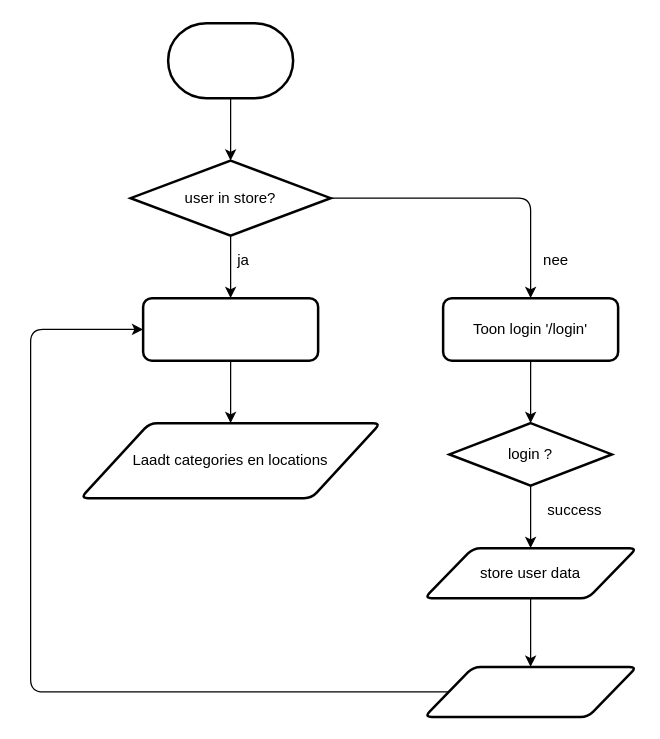
Some shapes in this 660 by 739 pixel diagram are drawn without their labels. Here are the shapes that lost their labels. From the top down, the box of each, then its label:
(166, 21, 294, 99): Start
(141, 296, 319, 361): Toon index '/'
(422, 665, 638, 718): redirect naar index
